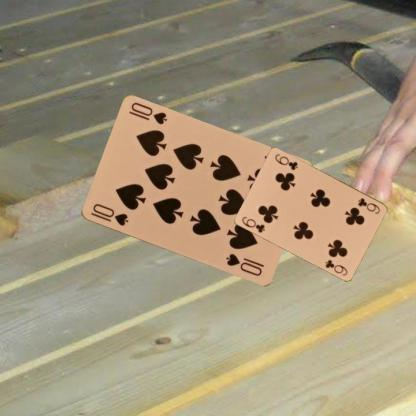10s: (88, 201, 129, 228)
6c: (239, 214, 266, 234), (356, 195, 382, 215)
